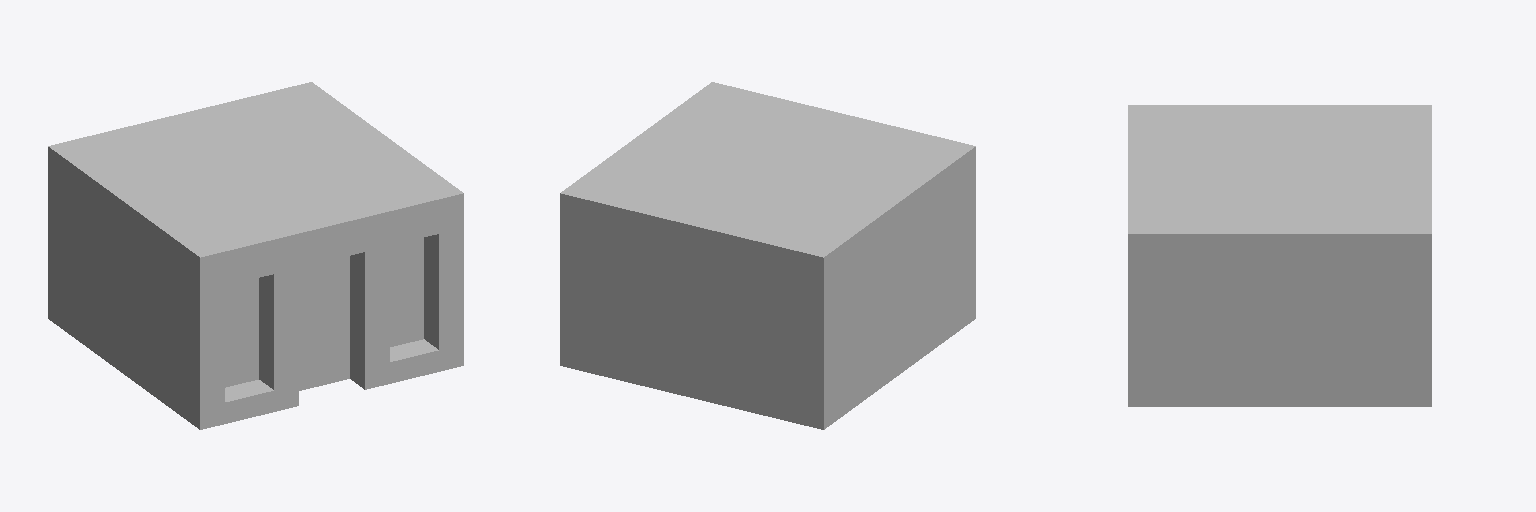
Rendered from building-window-door-window.obj.
3 views of the same model, side by side, from view 1: azimuth 30°, elevation 25°; view 2: azimuth 150°, elevation 25°; view 3: azimuth 270°, elevation 25° (orthographic).
Visible parts, largest first — view 1: building-window-door-window; view 2: building-window-door-window; view 3: building-window-door-window.
Boxes of the visible parts, x1=… form: building-window-door-window: x1=48, y1=82, x2=463, y2=429; building-window-door-window: x1=560, y1=82, x2=975, y2=429; building-window-door-window: x1=1128, y1=105, x2=1431, y2=406.
Size of the model in its own units: 1 by 0.625 by 1.